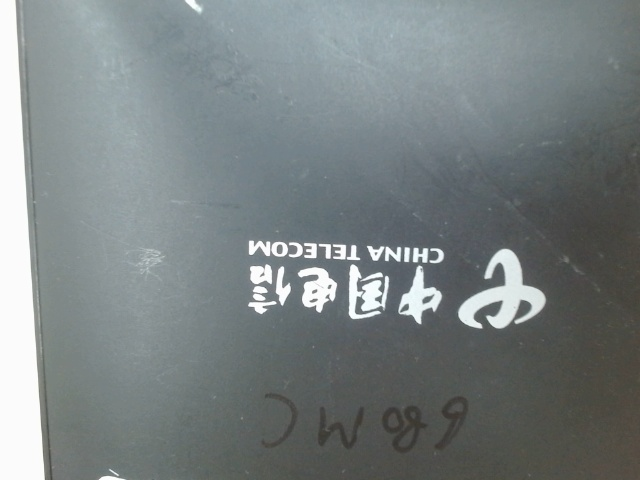AB_ChinaTelecom: (224, 220, 567, 354)
